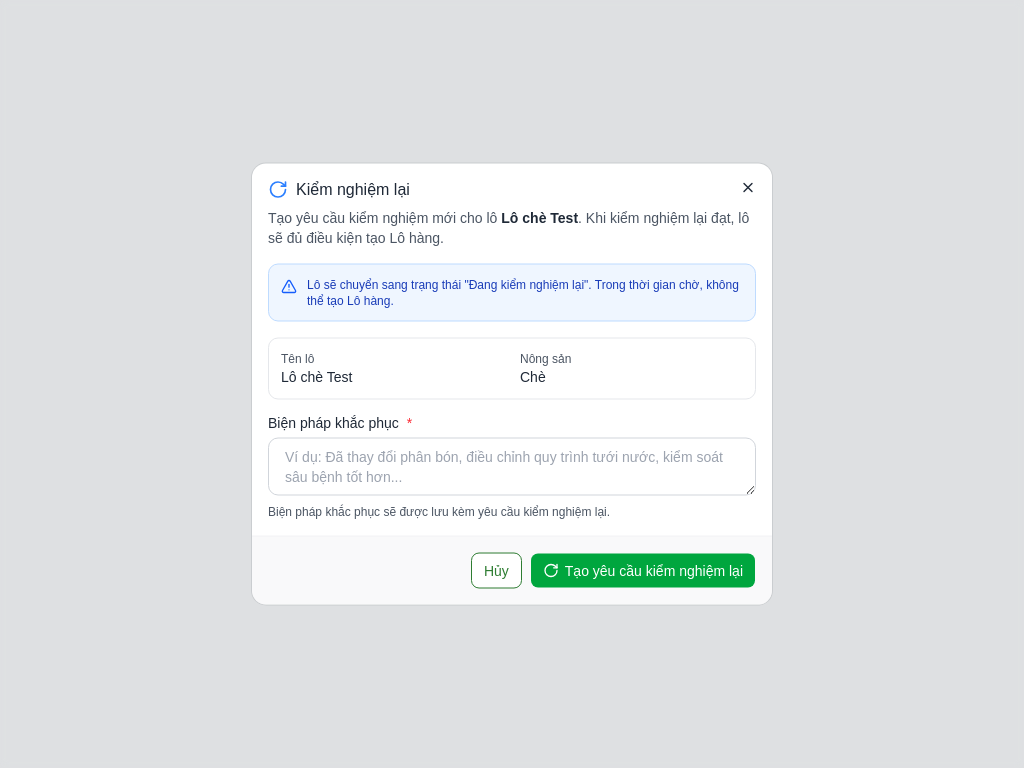
Test case: ReInspectionDialog › shows validation error when submitting without corrective action (TC-03)
# Submit without filling corrective action
Click the button "Tạo yêu cầu kiểm nghiệm lại" at (643, 570), box [530,552,756,588]
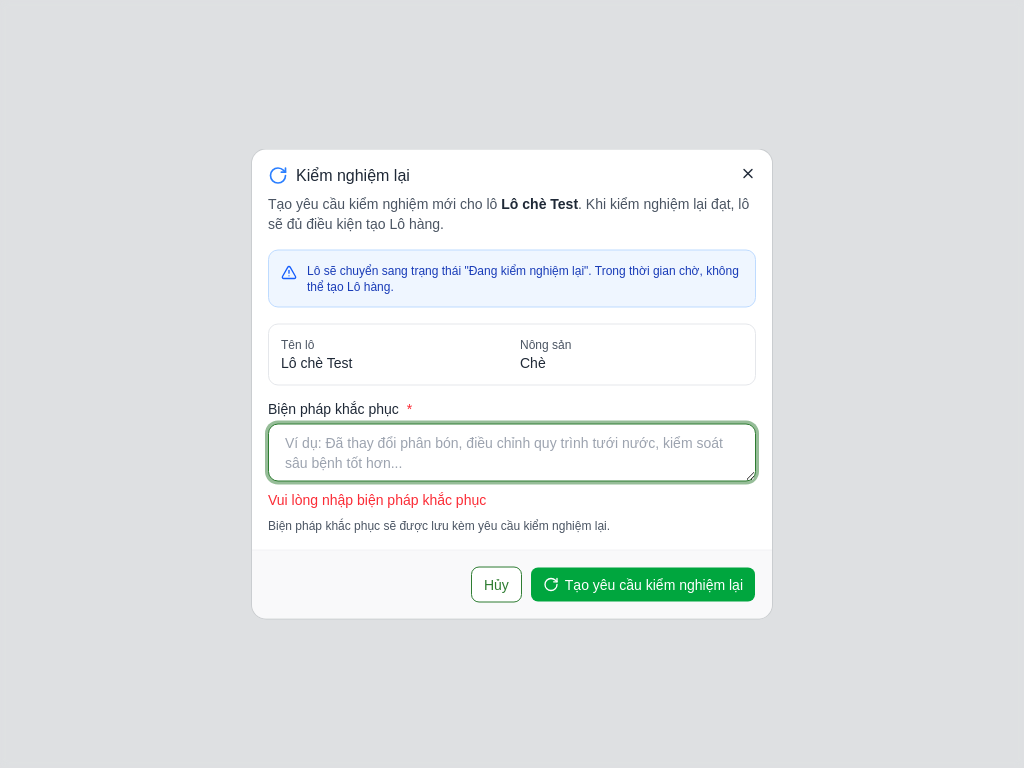
Expected: the text "Vui lòng nhập biện pháp khắc phục" is shown, [268,492,486,508]
